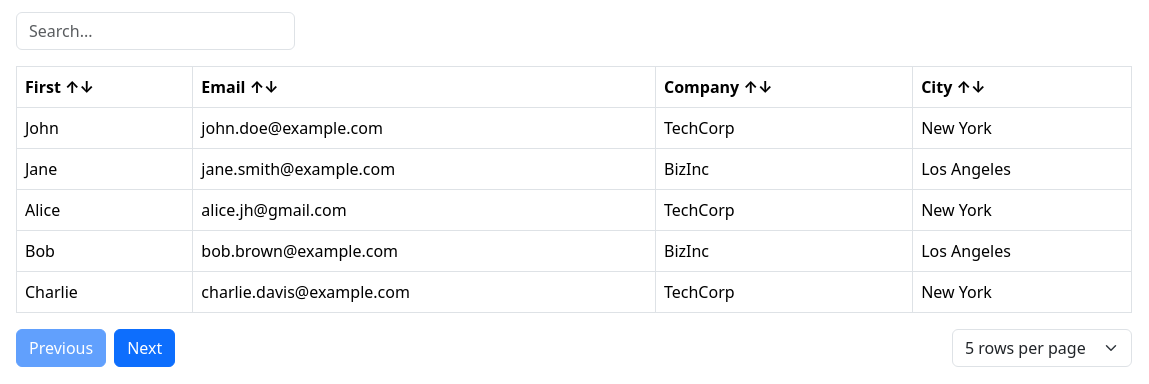
Test: UserTable › search functionality works
This screenshot has width=1149, height=384.
Type "John" into the field with placeholder "Search..." at (156, 31), box 16,12 -> 295,50
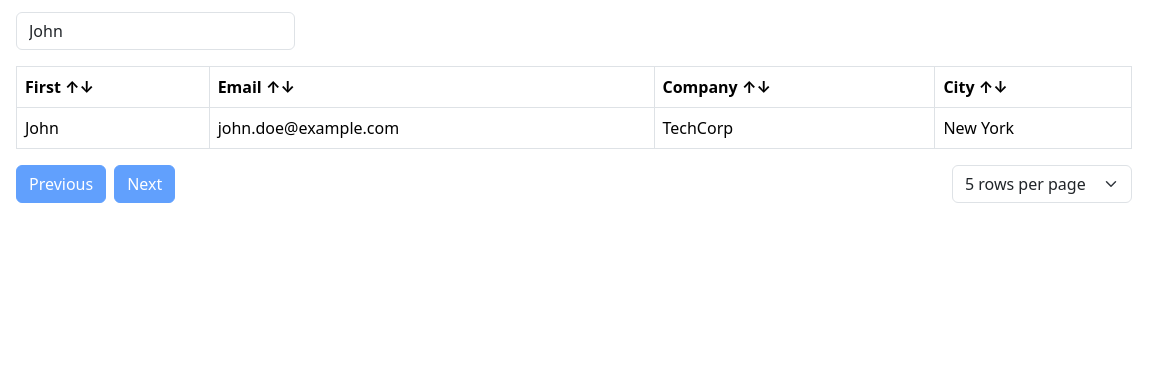
Check: the text "John" is shown, box 16,108 -> 209,148
Check: the text "Jane" is gone
